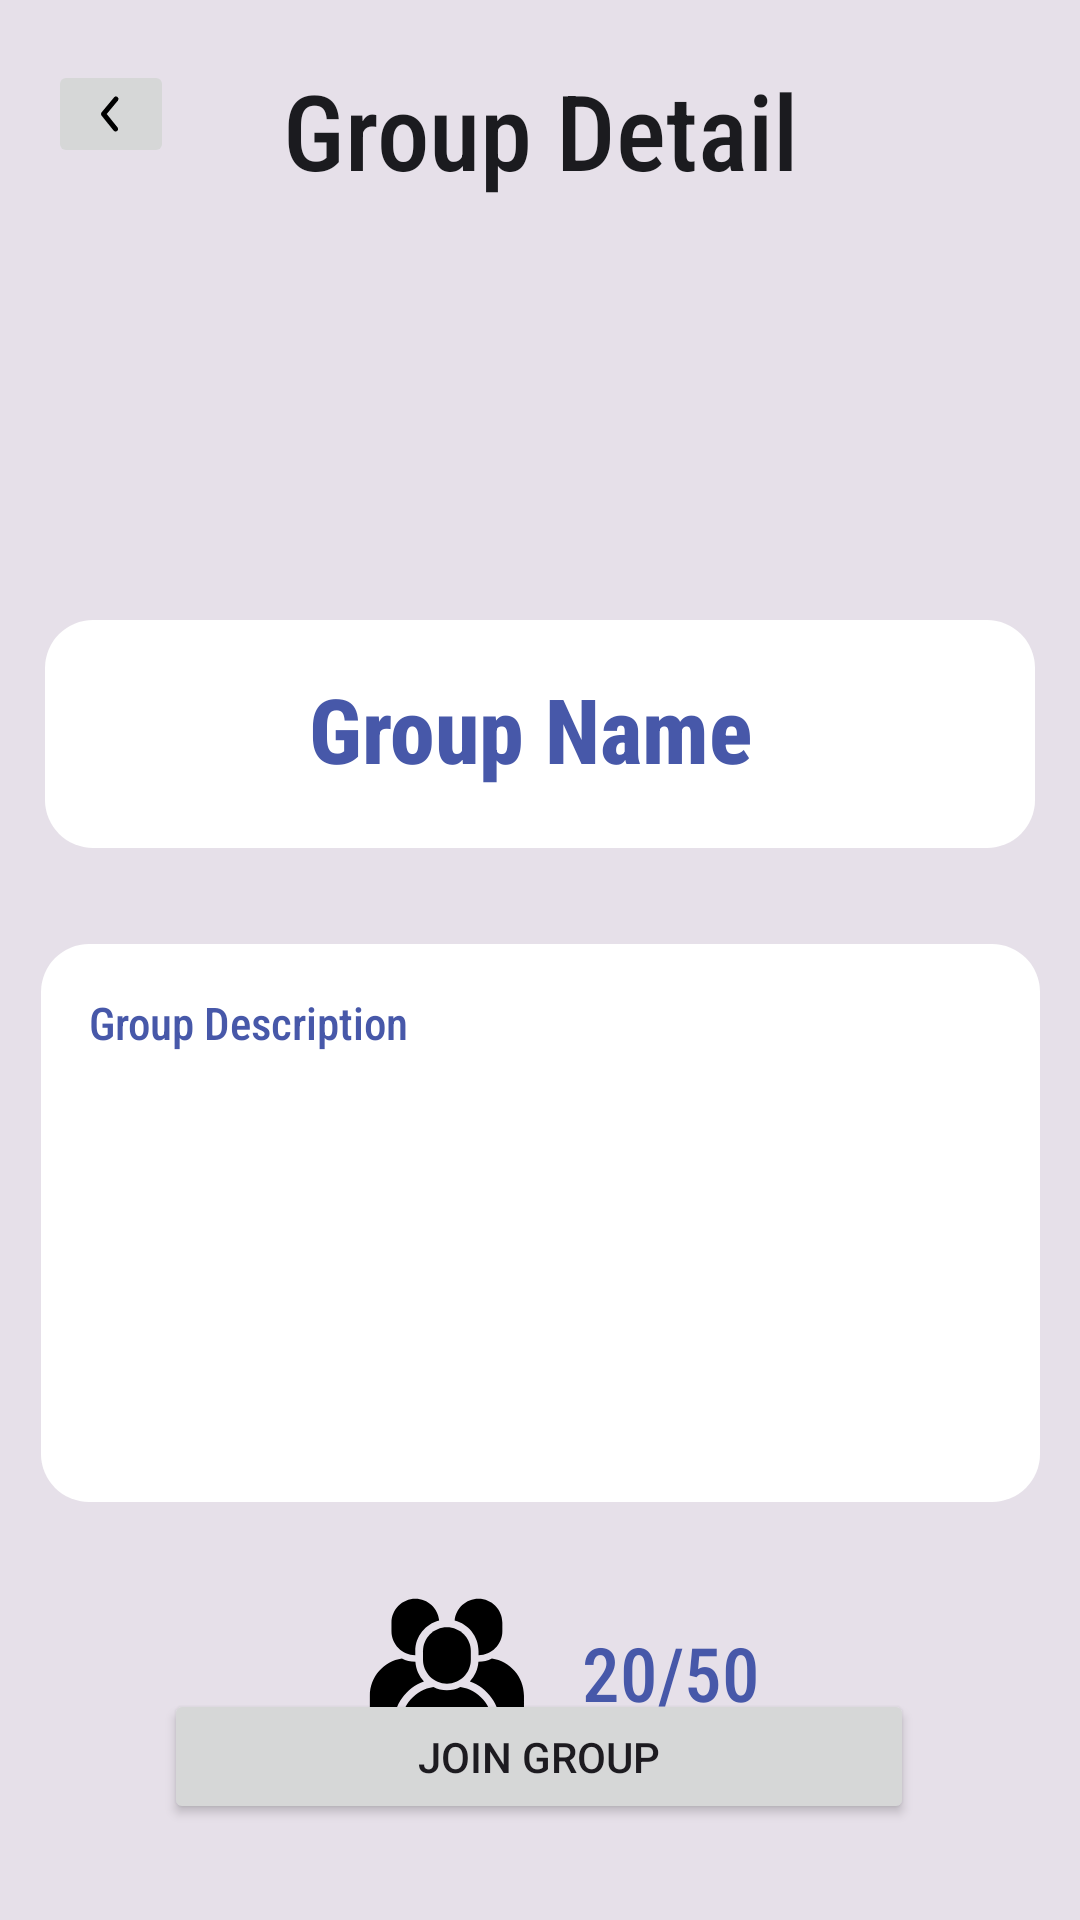

Icon click points for this 1080*1920 phone screenshot, format (x=x, y=y):
back: (x=111, y=114)
number of user: (x=446, y=1652)
